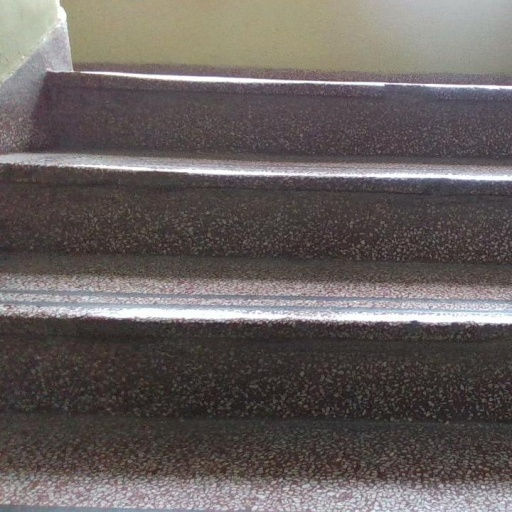Stairs: (0, 73, 512, 302), (0, 307, 512, 512)
